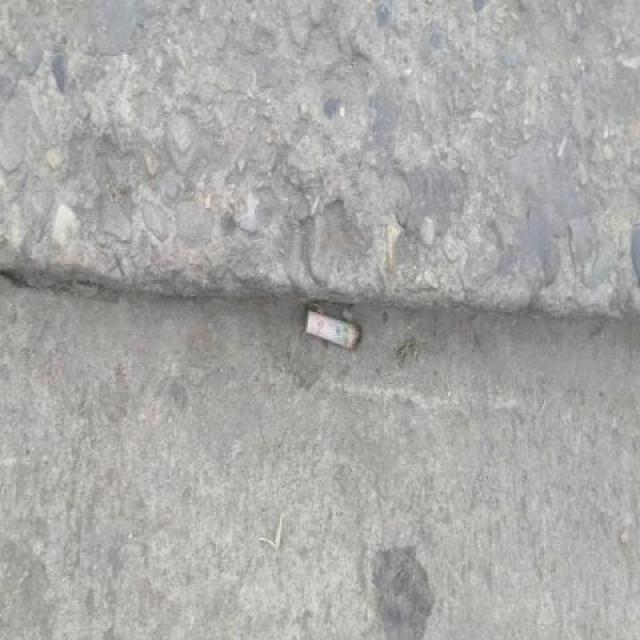non-organic waste: (300, 301, 365, 358)
